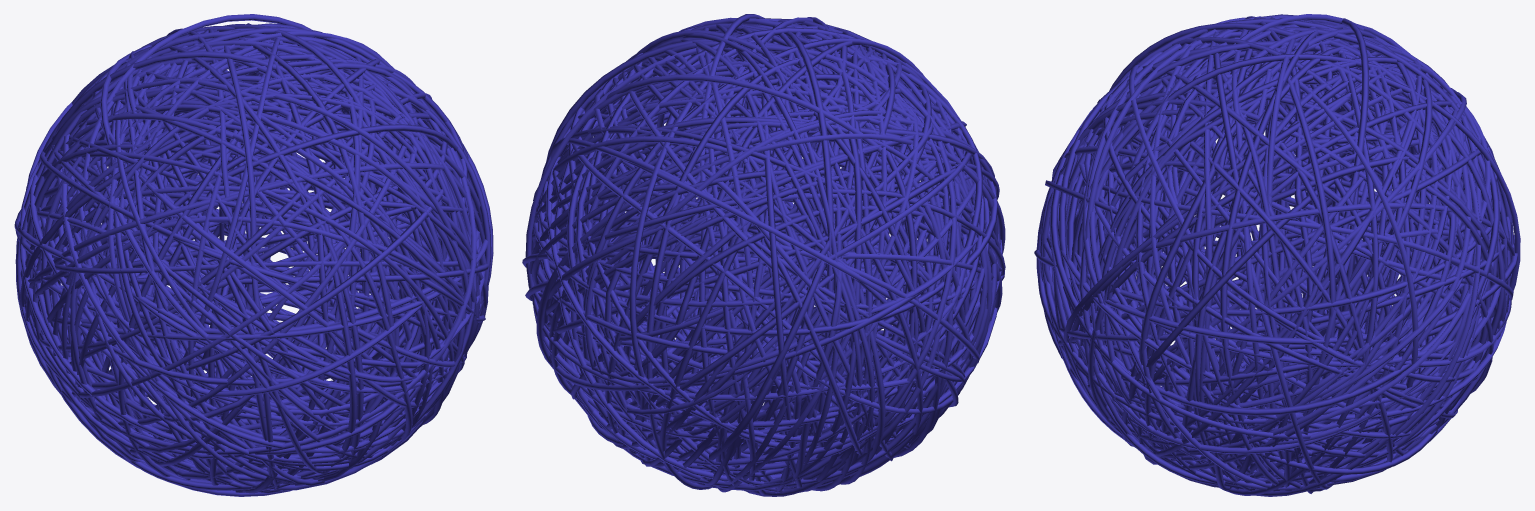
The model's file is Ball of yarn blue.fbx.
3 views of the same model, side by side, from view 1: azimuth 30°, elevation 25°; view 2: azimuth 150°, elevation 25°; view 3: azimuth 270°, elevation 25° (orthographic).
Parts seen in each view (by area): view 1: BounceSpline; view 2: BounceSpline; view 3: BounceSpline.
Part boxes in pixels (bbox=[...]): BounceSpline: bbox=[14, 14, 493, 496]; BounceSpline: bbox=[522, 14, 1005, 496]; BounceSpline: bbox=[1034, 14, 1520, 496].
Size of the model in its own units: 206 by 207 by 207.
